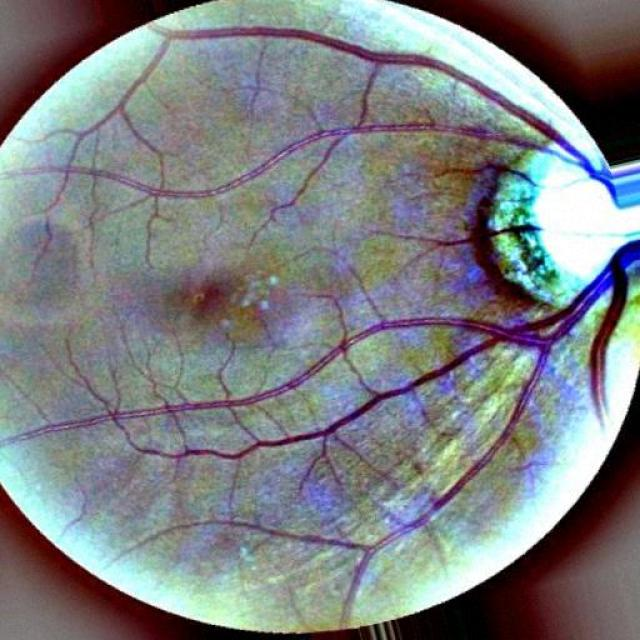Macula: (189, 282, 221, 312)
Nerves: (18, 230, 639, 554), (21, 25, 639, 209)
Optic Disk: (485, 151, 639, 308)
